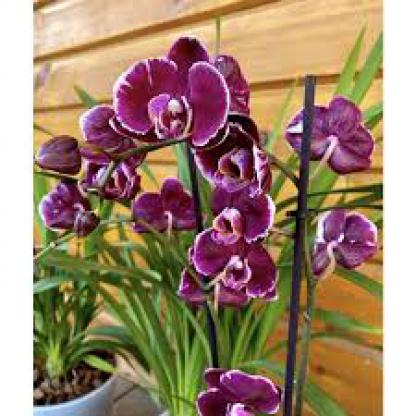ANGGREK: (45, 40, 373, 402)
